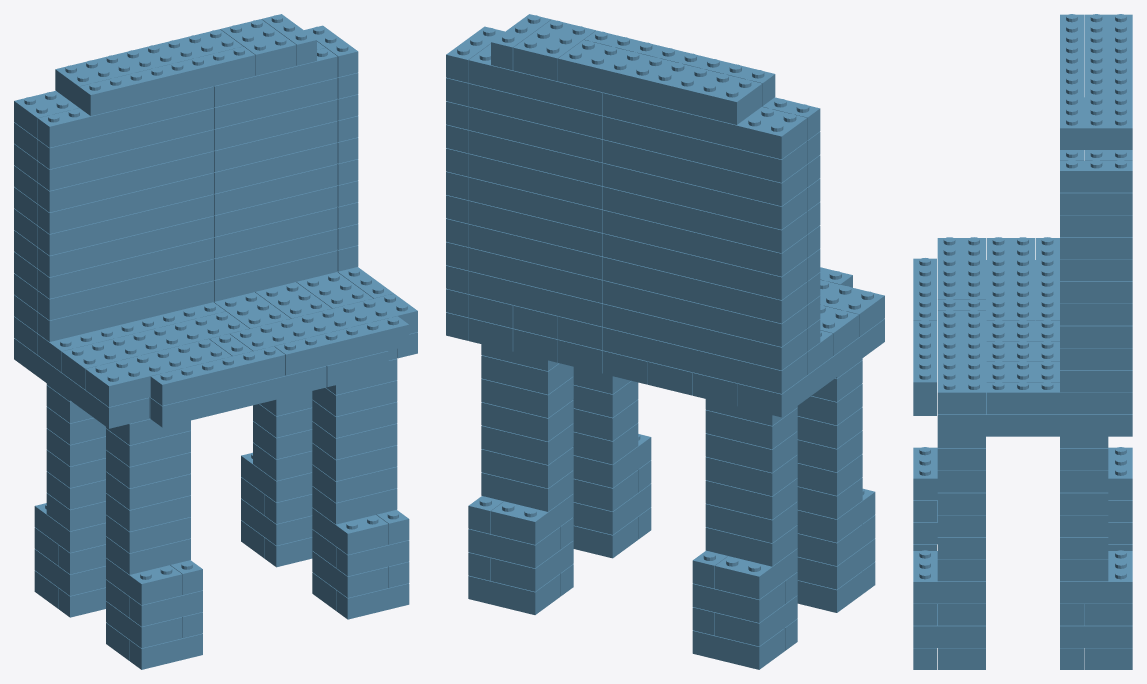
Rendered from 153_chair_L3.glb.
3 renders of one model, left to right at view 1: azimuth 30°, elevation 25°; view 2: azimuth 150°, elevation 25°; view 3: azimuth 270°, elevation 25°, orthographic. The views are drawn at different scales.
Bounding box in the file's own units: 14.98 × 24.13 × 8.98.
